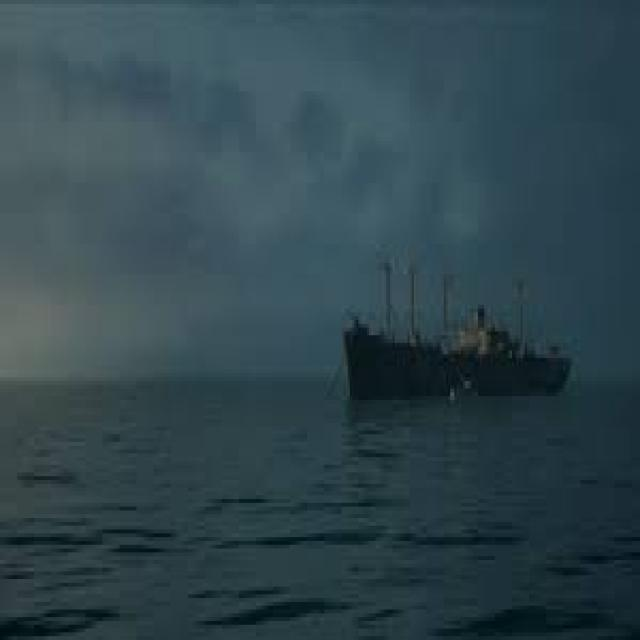cargoship: (336, 254, 574, 406)
